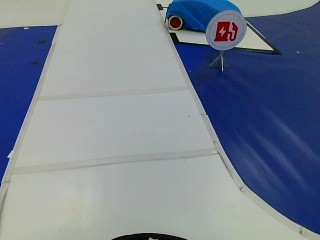battery: (210, 13, 241, 49)
car: (162, 0, 247, 33)
